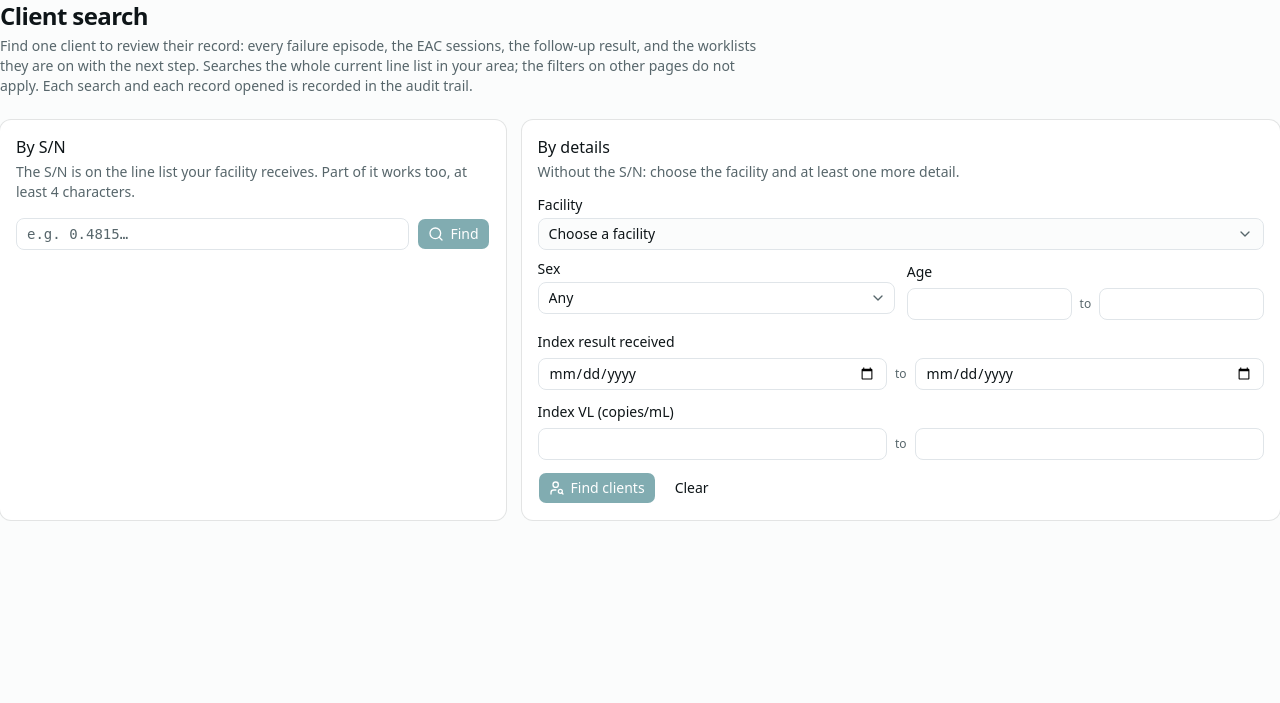
Test: Client search › lists the matches, and a client key opens the record
The width and height of the screenshot is (1280, 703).
Type "23456" into the field named "S/N". click: (213, 234)
box: [16,218,410,250]
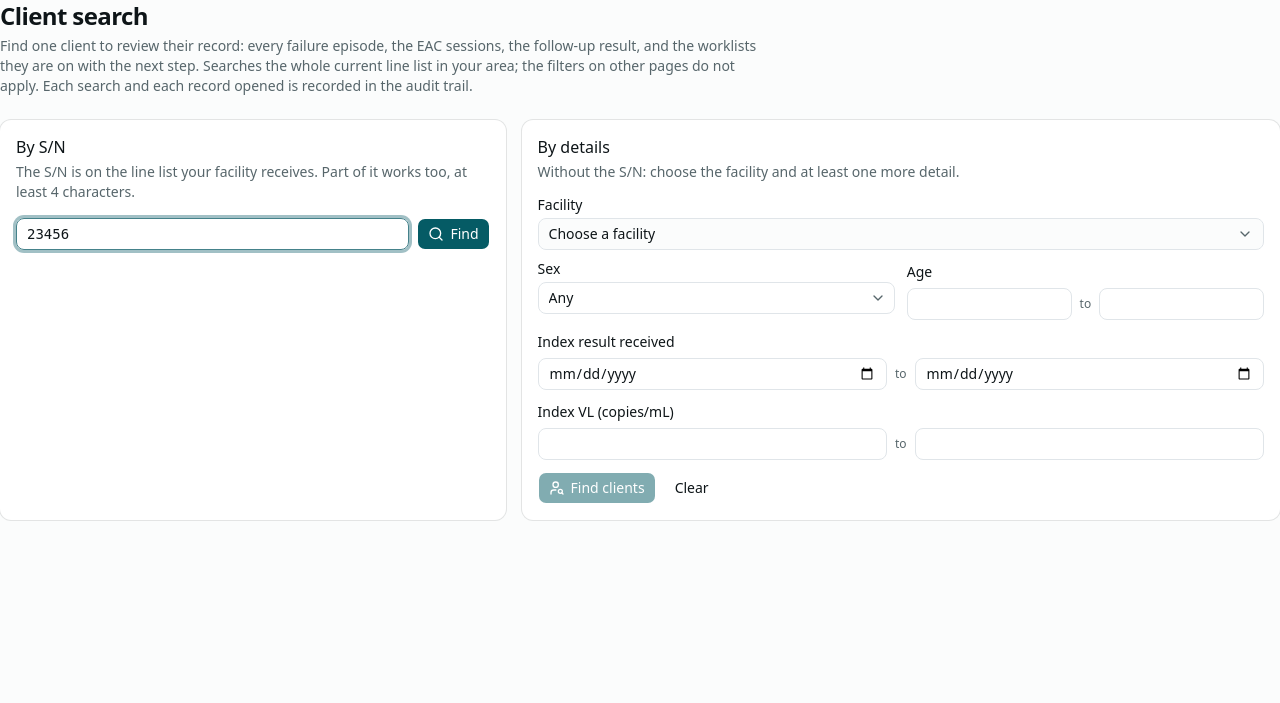
Click the button "Find". click: (454, 234)
box: [418,218,490,250]
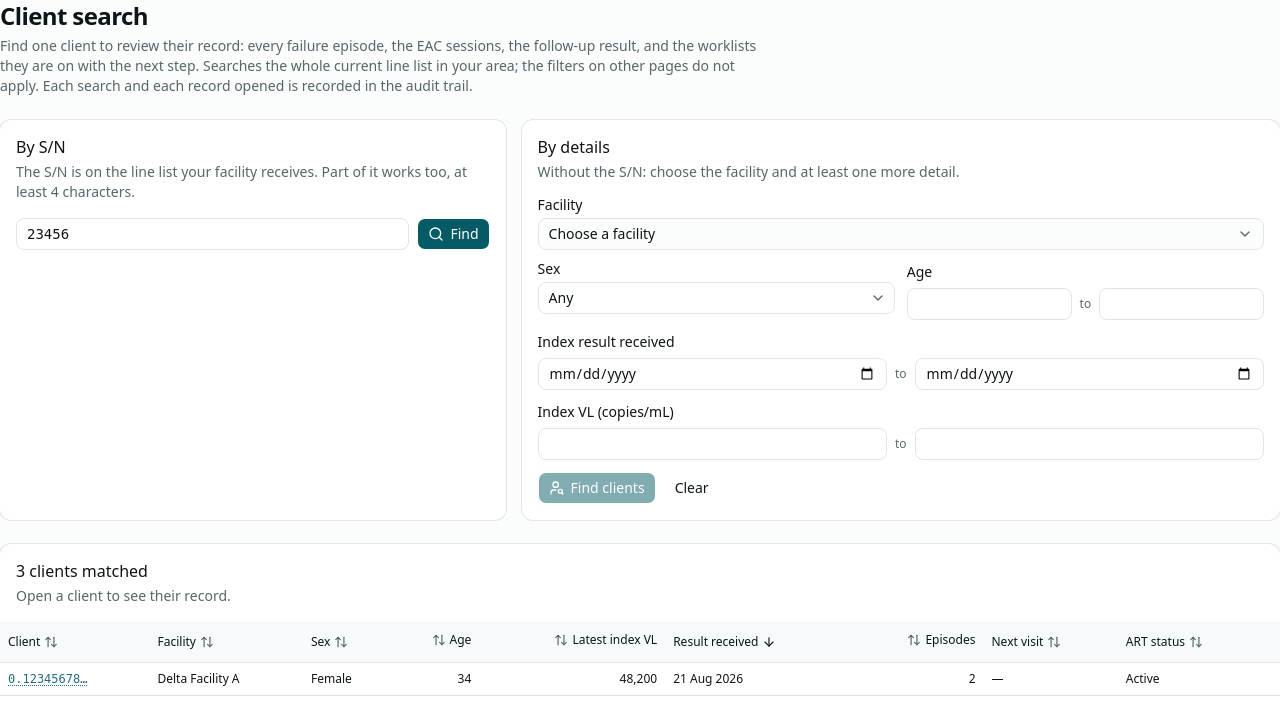
Now the text "3 clients matched" is shown, box [16,560,148,582]
Click the button "0.12345678…". click: (48, 678)
box: [8,670,88,686]
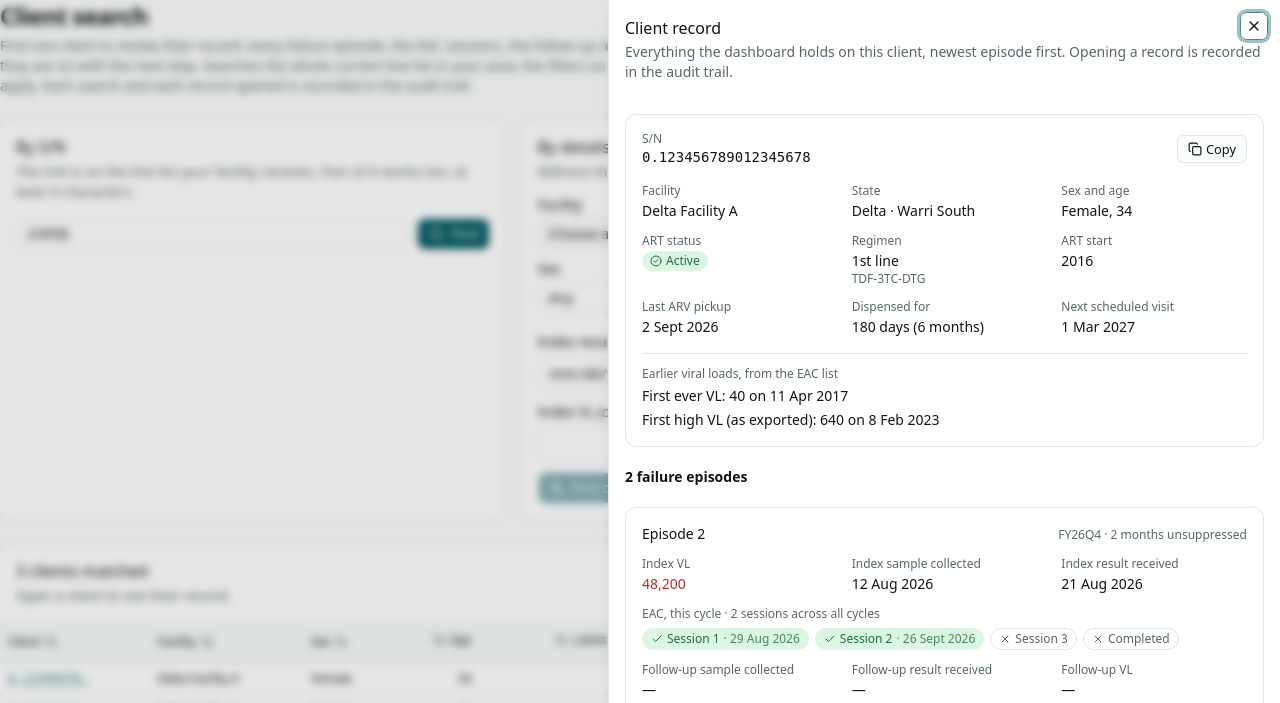
Now the heading "2 failure episodes" is shown, box [625,467,747,486]
